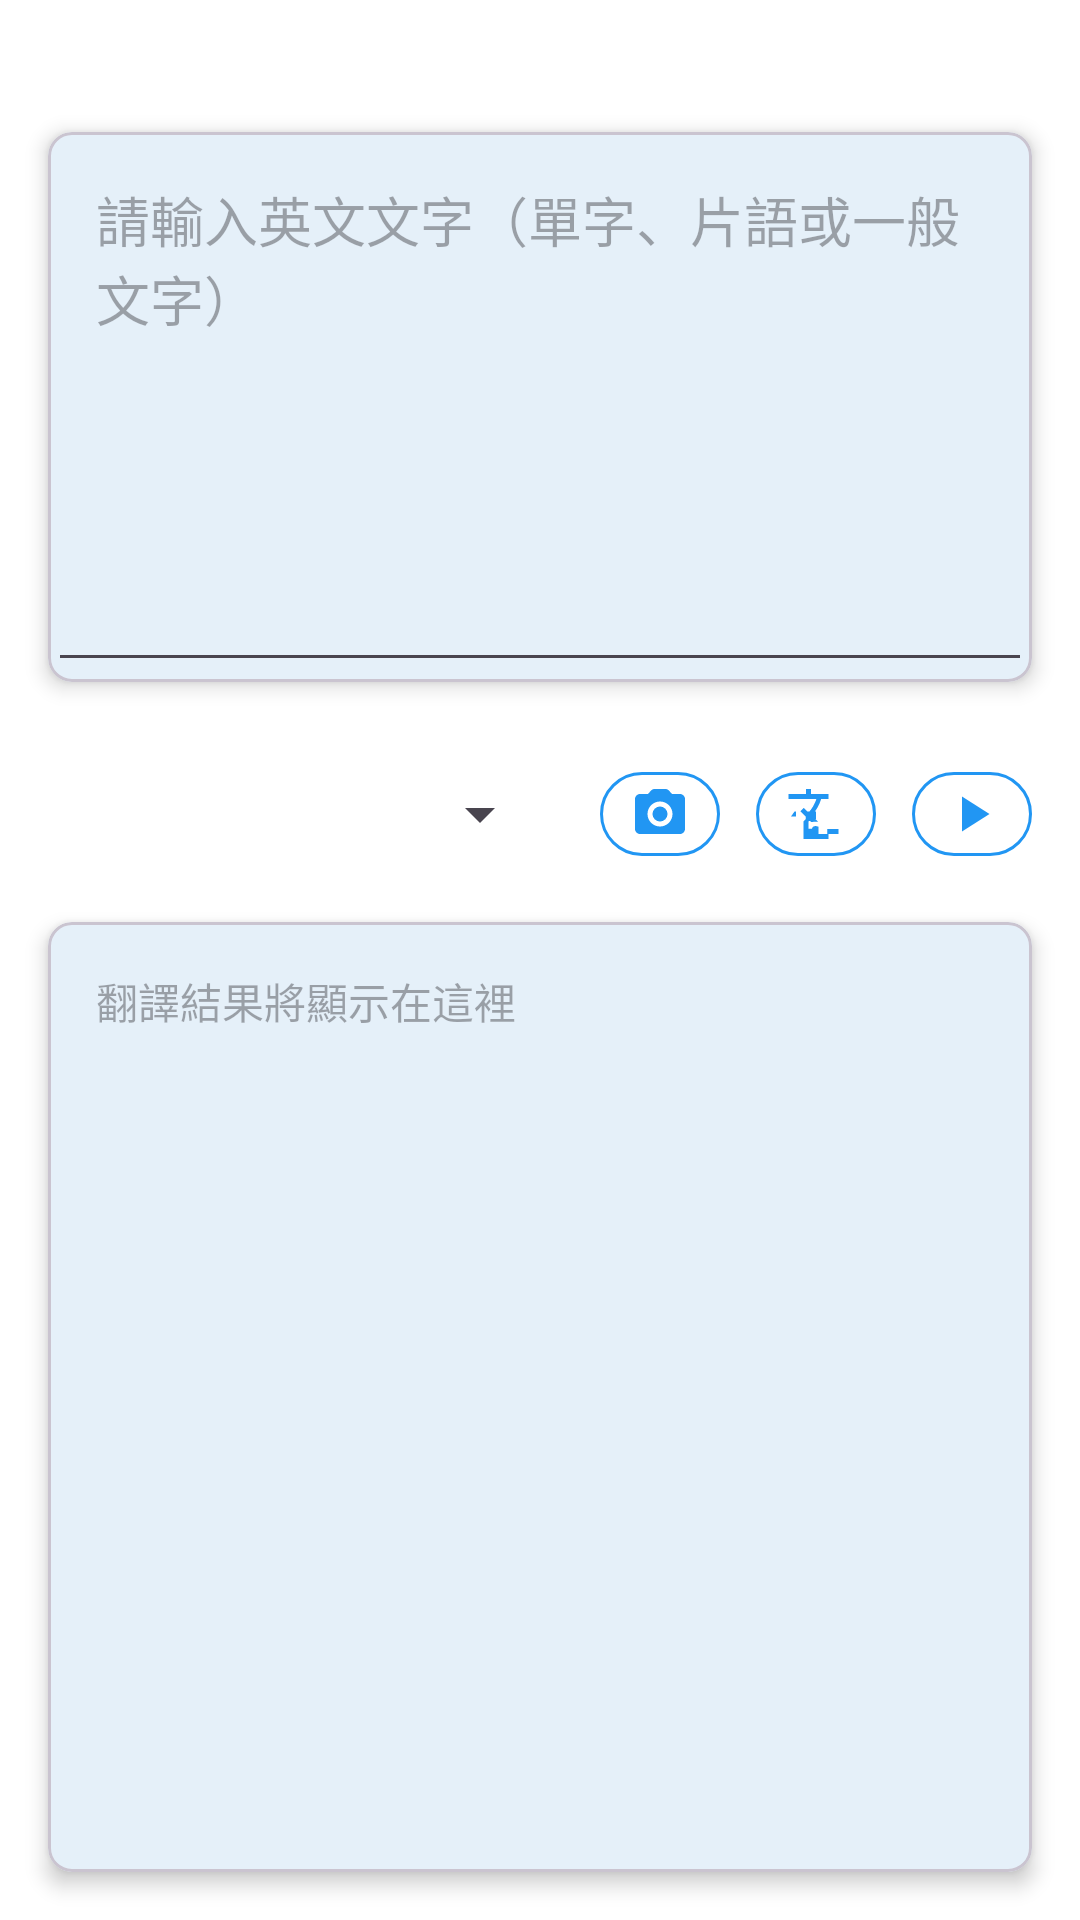

Named icons in this screenshot (1080×1920) and their centers, point (x, y):
播放: point (972, 814)
相機: point (660, 814)
